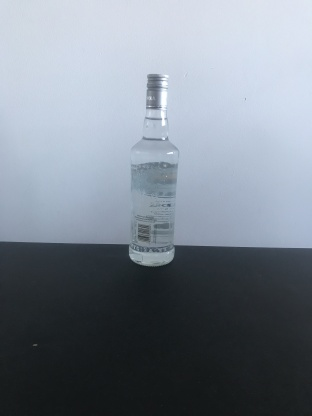nakretka: (144, 71, 170, 111)
